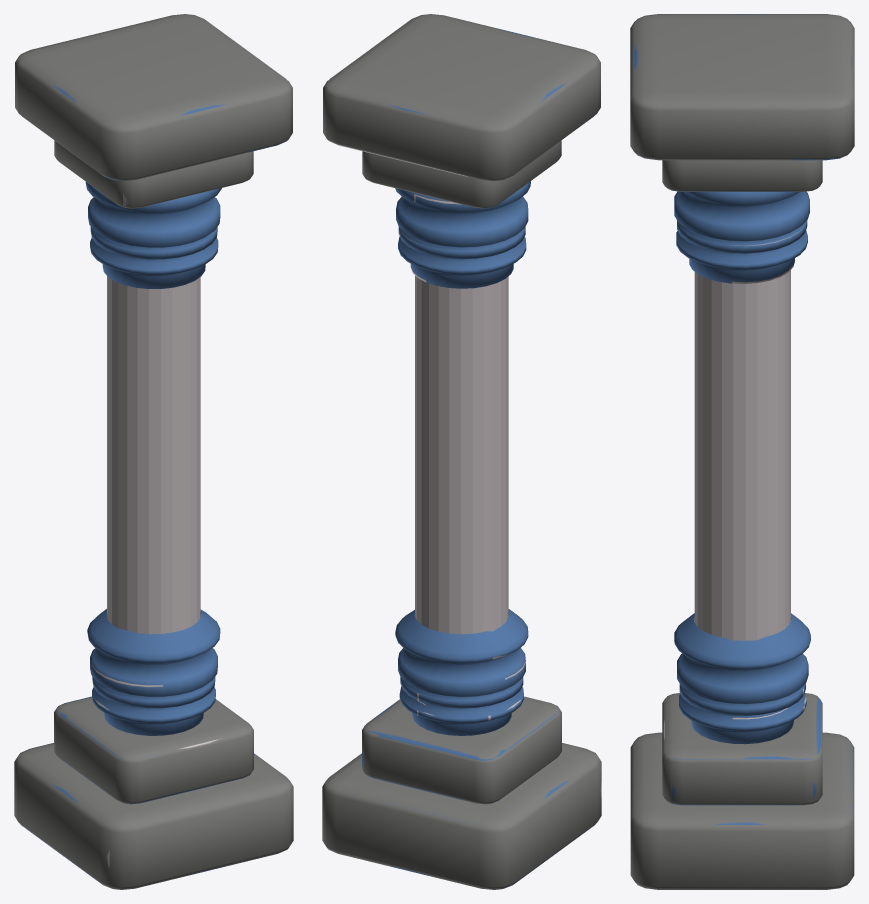
The model's file is pillartext.fbx.
The picture shows the model from 3 angles, left to right: view 1: azimuth 30°, elevation 25°; view 2: azimuth 150°, elevation 25°; view 3: azimuth 270°, elevation 25°; orthographic projection. The views are drawn at different scales.
Visible parts, largest first — view 1: Cube, Cylinder, Cylinder.001; view 2: Cube, Cylinder, Cylinder.001; view 3: Cube, Cylinder, Cylinder.001.
Part boxes in pixels (left/top/right/bottom): Cube: left=14, top=14, right=293, bottom=889; Cylinder: left=107, top=276, right=200, bottom=634; Cylinder.001: left=85, top=182, right=221, bottom=735; Cube: left=322, top=14, right=601, bottom=889; Cylinder: left=415, top=275, right=508, bottom=634; Cylinder.001: left=395, top=181, right=530, bottom=735; Cube: left=630, top=14, right=854, bottom=889; Cylinder: left=694, top=270, right=790, bottom=640; Cylinder.001: left=674, top=191, right=810, bottom=744.
Size of the model in its own units: 258 by 999 by 256.
3 materials, 3 textured.
